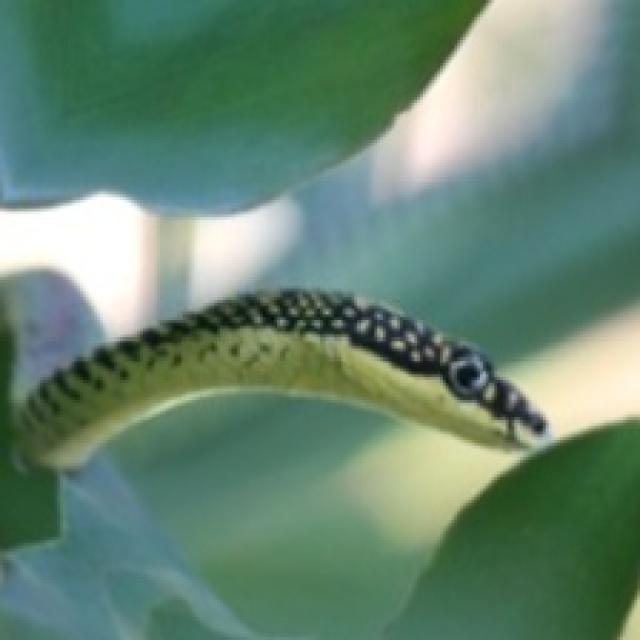paradise tree snake: (17, 289, 546, 466)
